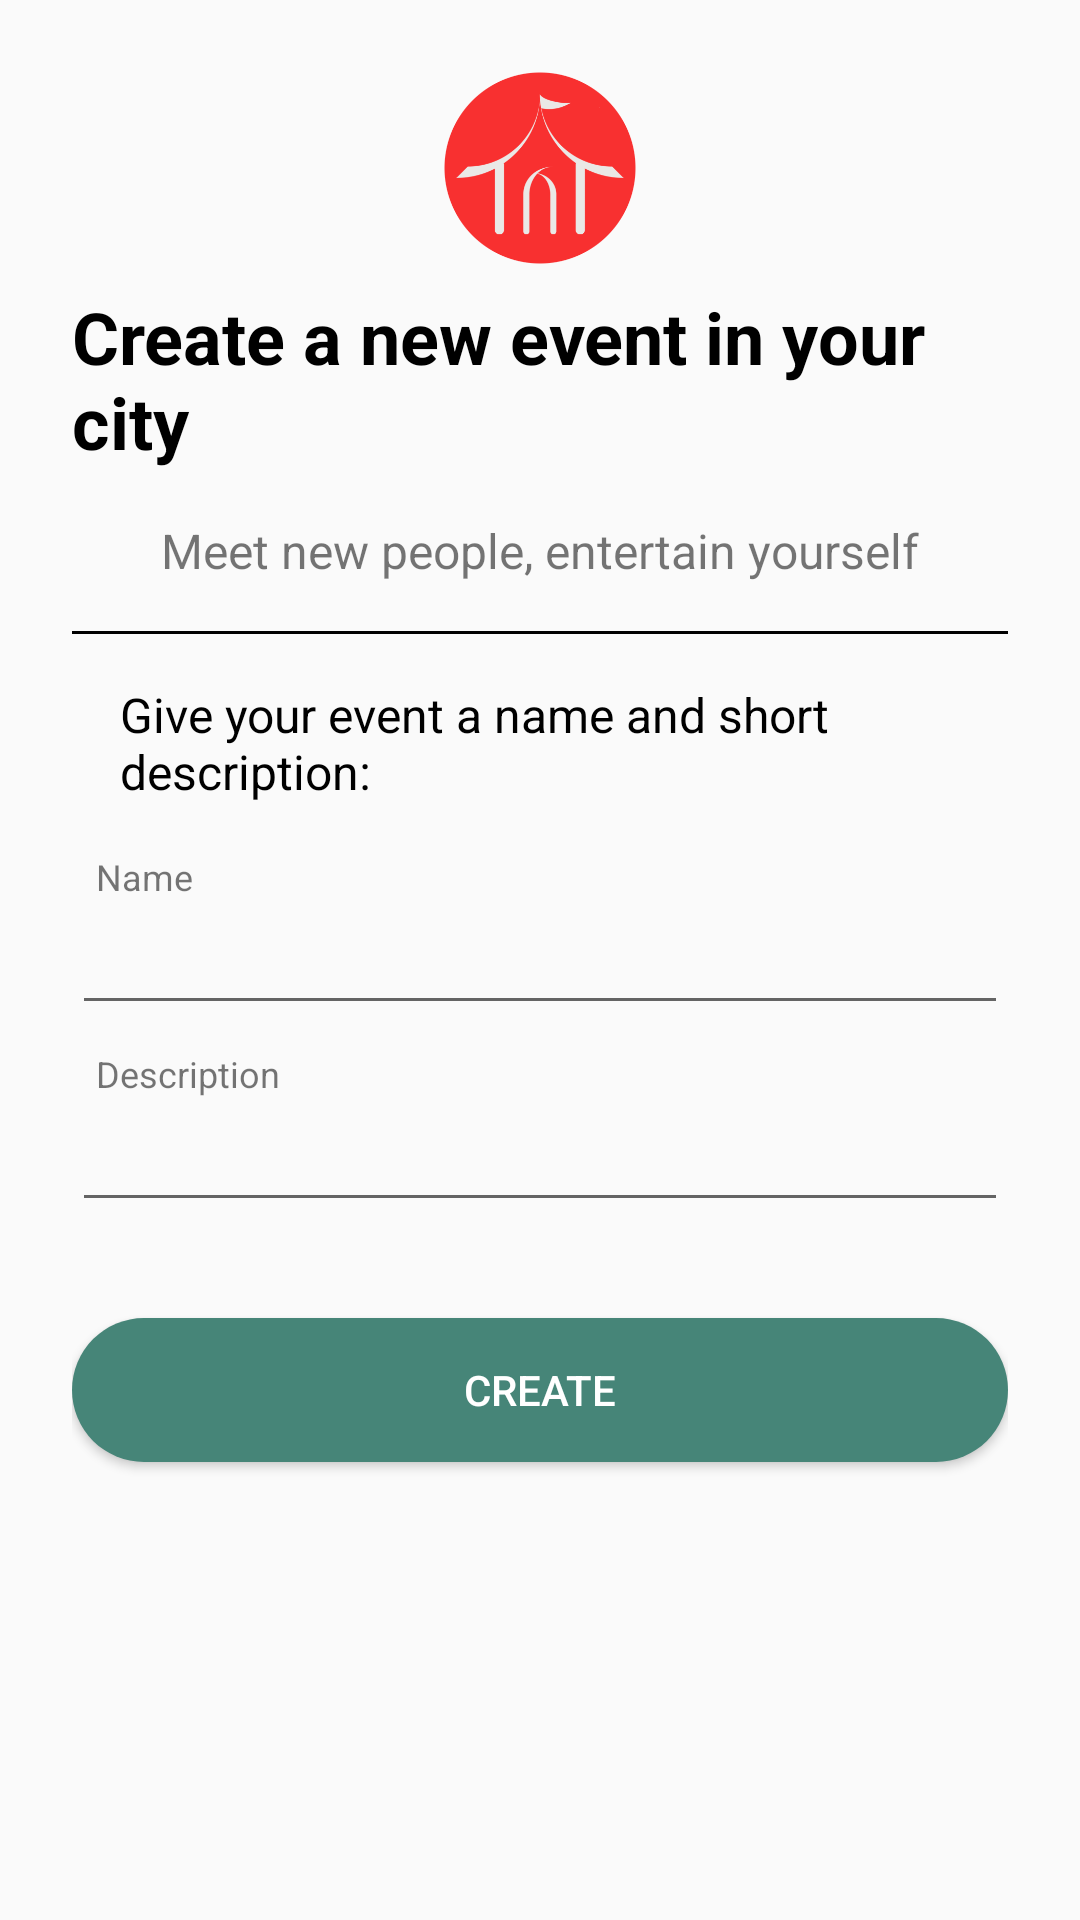

Named icons in this screenshot (1080x1920) and their bounding boxes, (left=x1, top=y1, right=x2, bottom=y2):
special events: (left=444, top=72, right=636, bottom=264)
